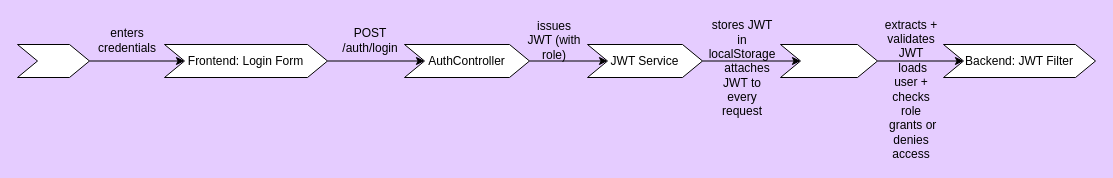
This 1113x178 diagram has some shape labels left out. Each missing label, with the centre of its shape:
"Frontend" belongs at point (829, 61).
"User" belongs at point (53, 61).
